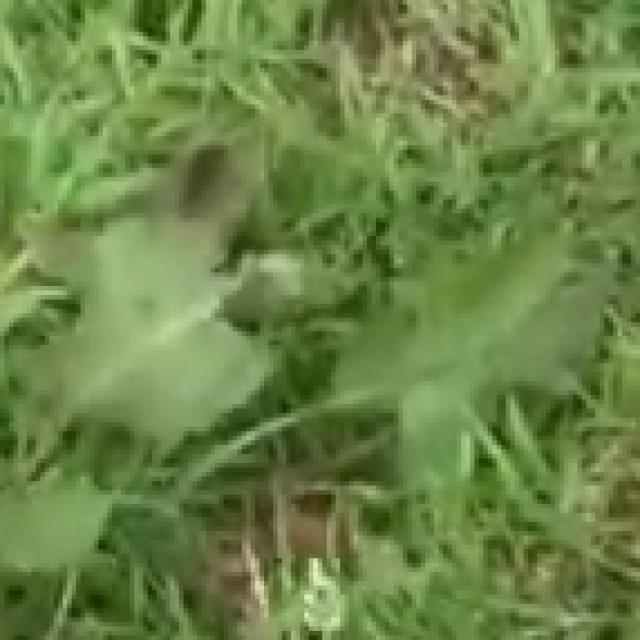organic waste: (0, 141, 640, 608)
